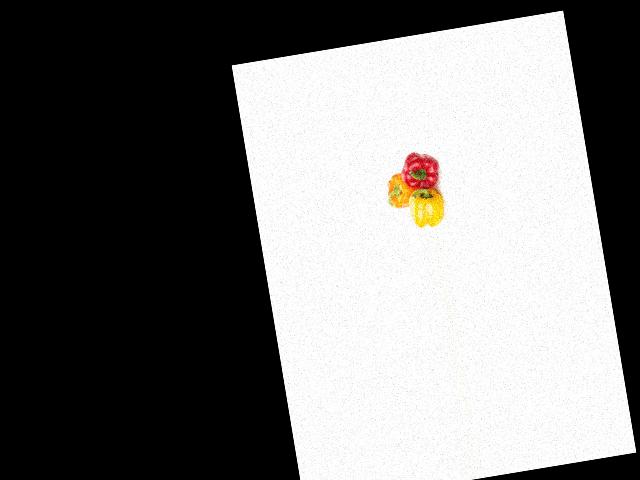bell_pepper: (406, 186, 450, 230)
